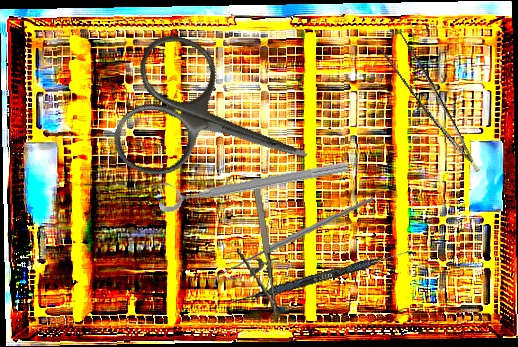Fixation Ring: (154, 145, 351, 215)
Hook Surgical: (213, 186, 374, 298)
Iris Scissors: (105, 27, 331, 223)
Needle Holder: (228, 177, 280, 321)
Spatula Surgical: (230, 243, 417, 310)
Tissue Forceps: (377, 28, 480, 185)
